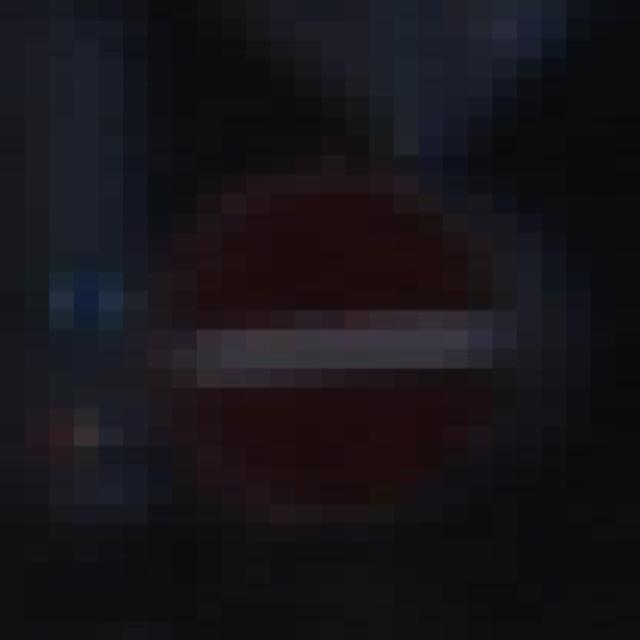No Entry: (64, 119, 556, 526)
